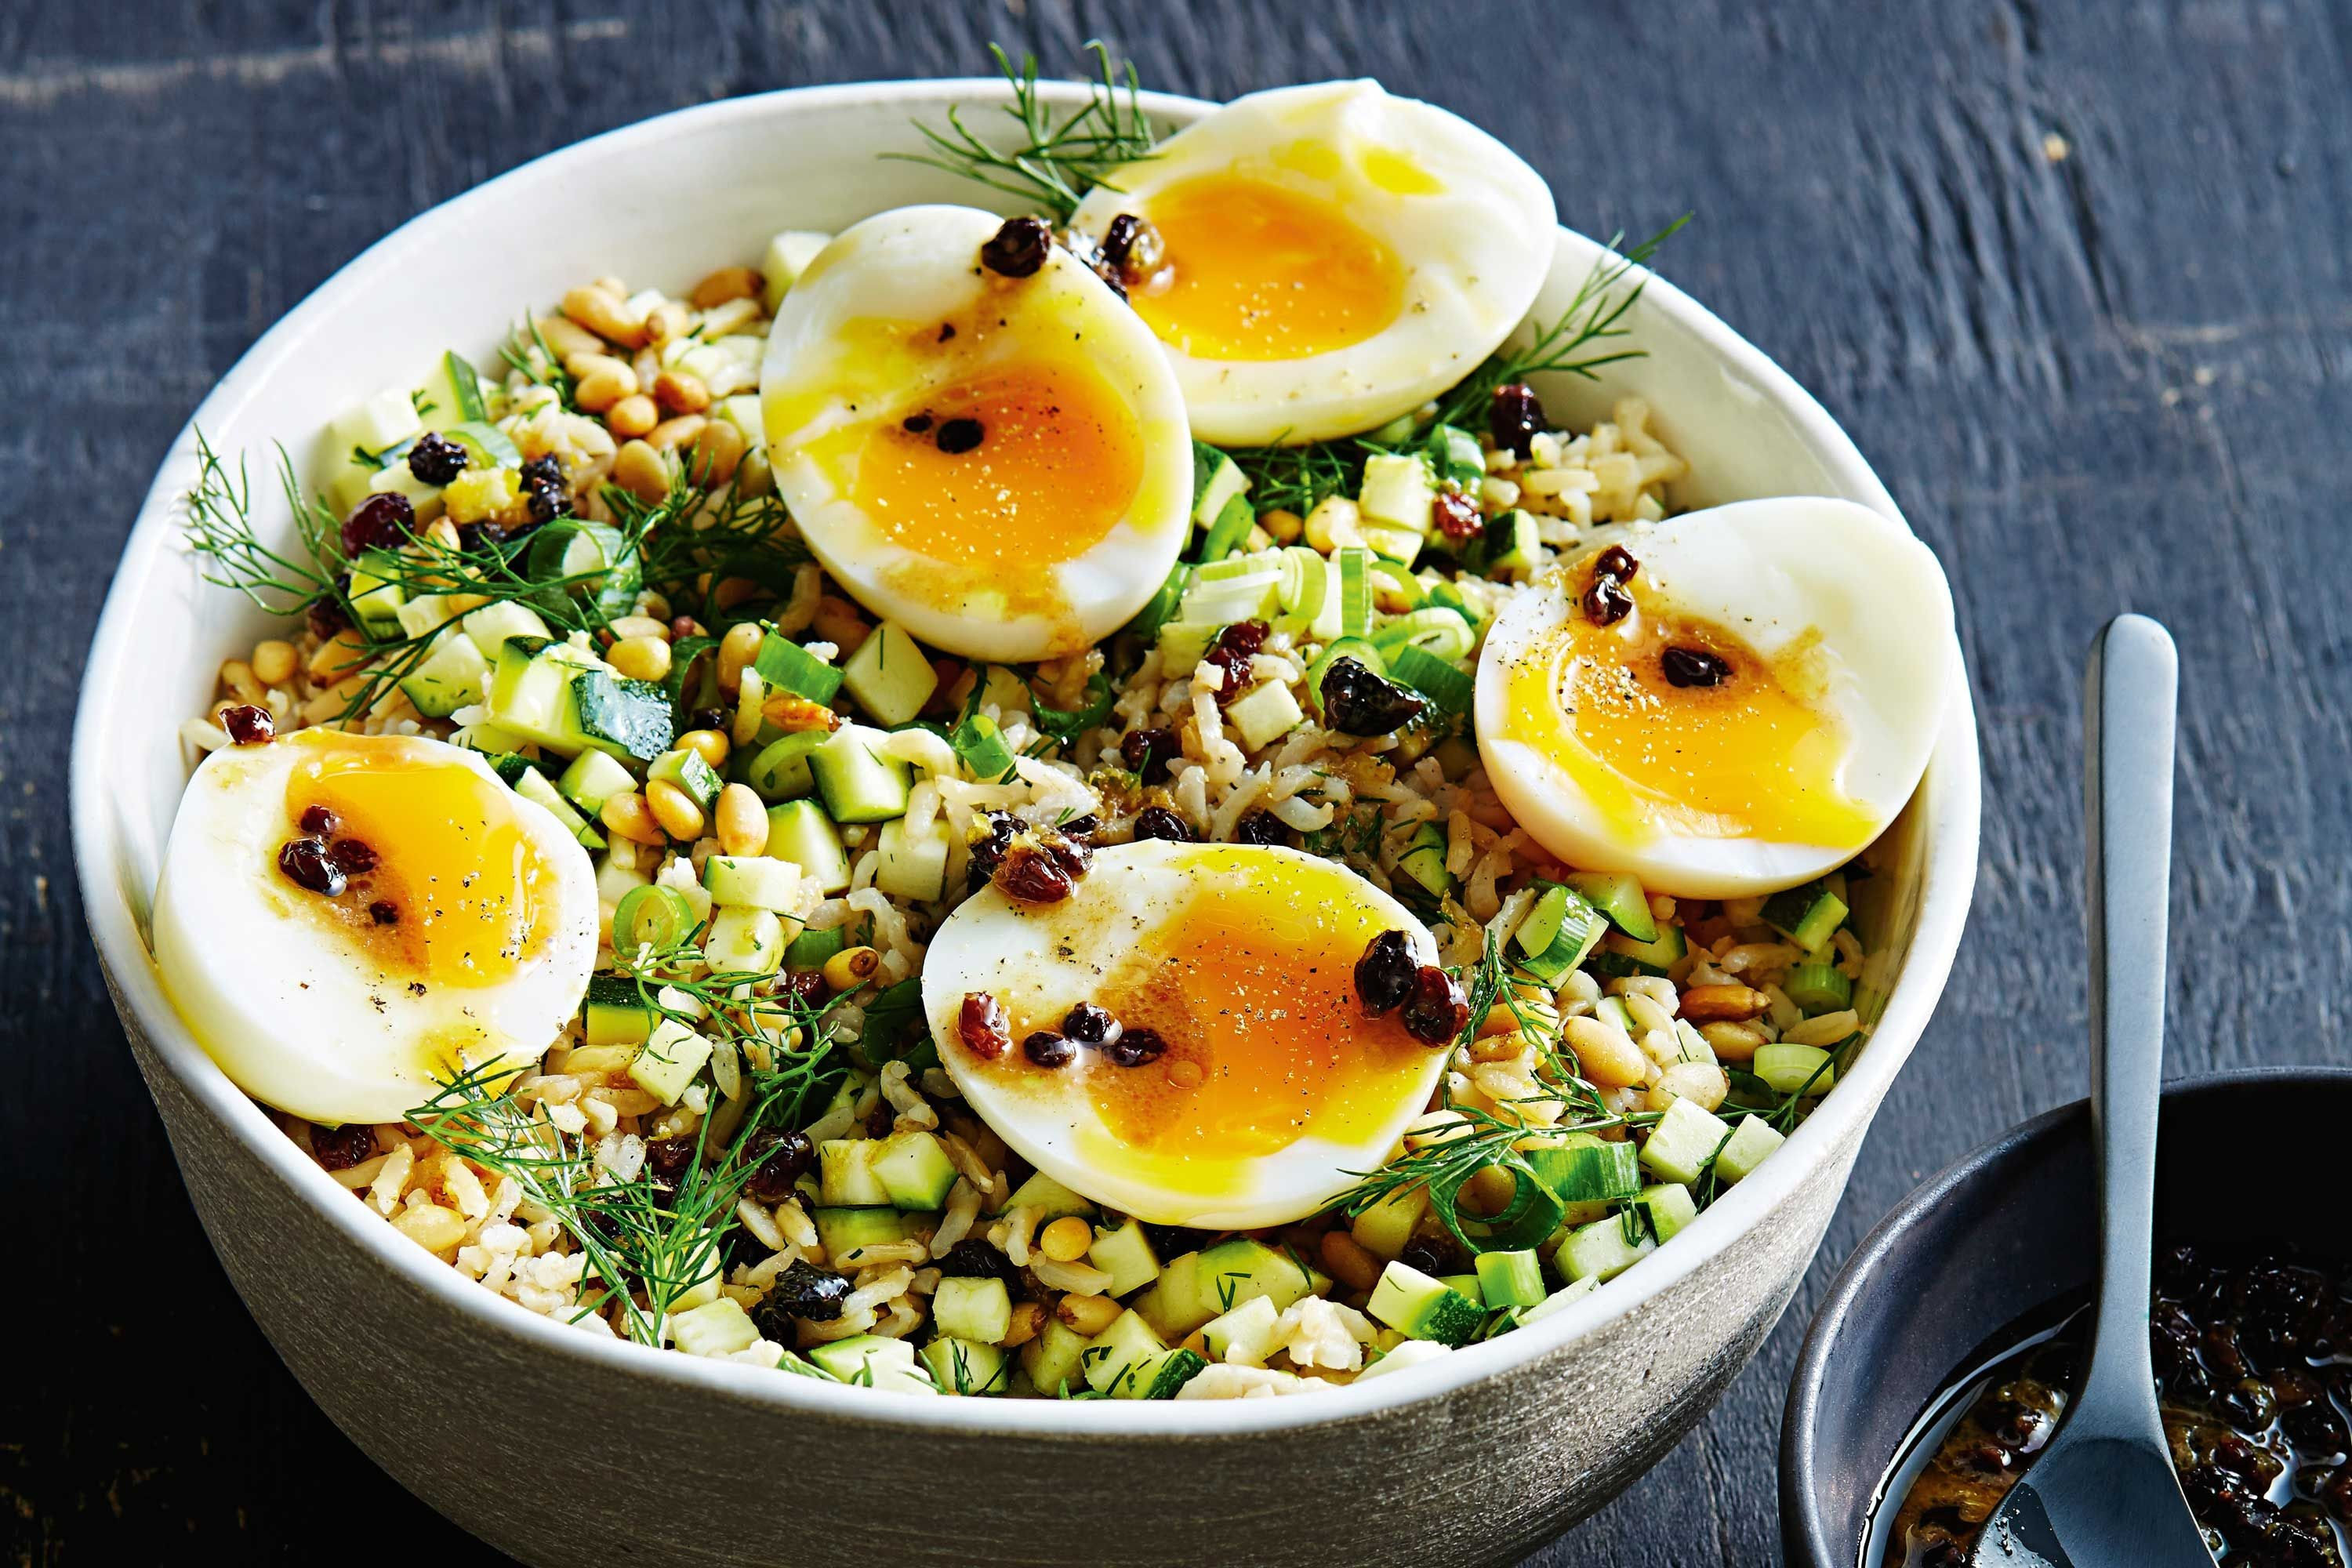egg: (737, 205, 1206, 649), (1069, 61, 1575, 446), (921, 823, 1426, 1208), (1454, 487, 1960, 872), (121, 698, 626, 1083)
